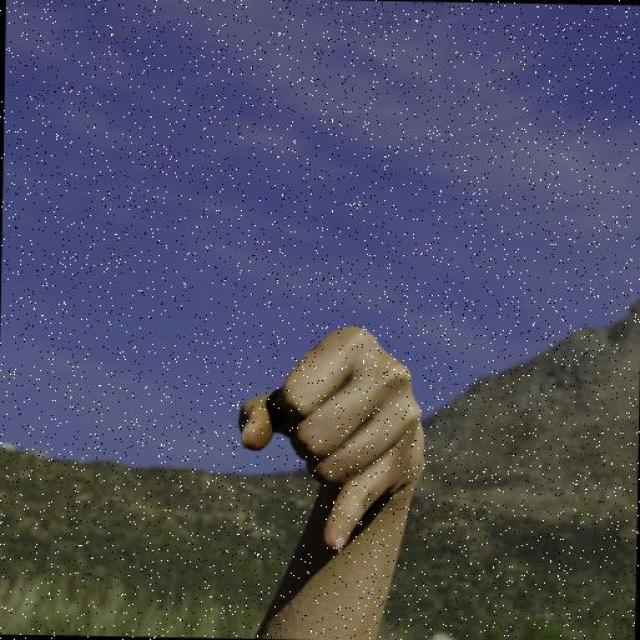J: (230, 321, 436, 559)
